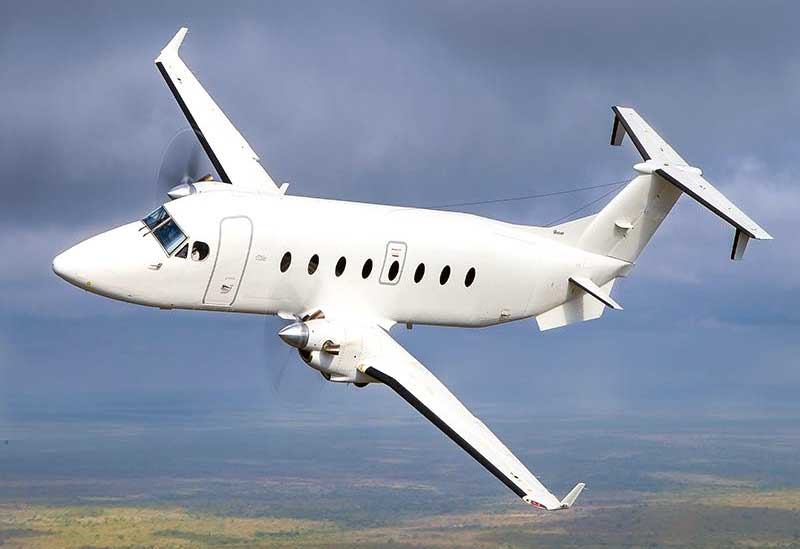Aeronef_militaire: (48, 18, 783, 521)
